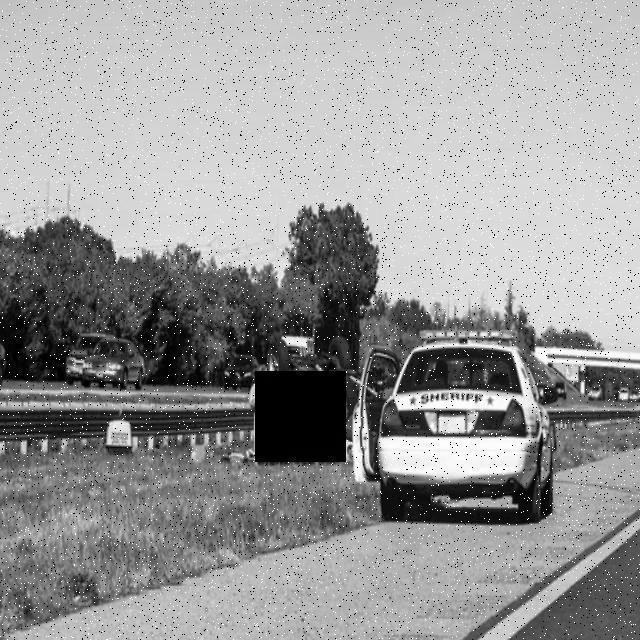accident: (247, 330, 381, 468)
vehicle: (368, 329, 560, 524), (85, 338, 146, 393), (61, 331, 105, 389), (225, 353, 261, 391), (584, 386, 604, 404), (617, 385, 633, 403)
